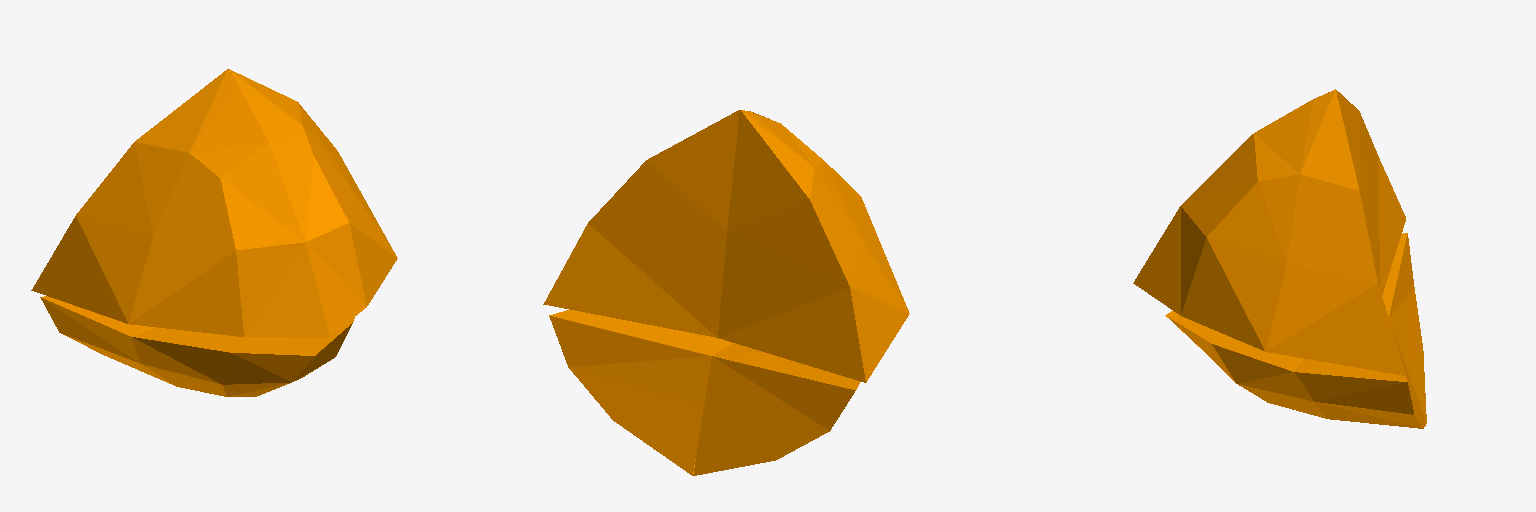
The model's file is beak.obj.
3 views of the same model, side by side, from view 1: azimuth 30°, elevation 25°; view 2: azimuth 150°, elevation 25°; view 3: azimuth 270°, elevation 25° (orthographic).
Parts seen in each view (by area): view 1: pasted__BeakR, pasted__BeakInfR; view 2: pasted__BeakR, pasted__BeakInfR; view 3: pasted__BeakR, pasted__BeakInfR.
Part boxes in pixels (left/top/right/bottom): pasted__BeakR: left=31, top=69, right=397, bottom=336; pasted__BeakInfR: left=40, top=296, right=354, bottom=396; pasted__BeakR: left=543, top=110, right=909, bottom=382; pasted__BeakInfR: left=549, top=310, right=859, bottom=475; pasted__BeakR: left=1133, top=89, right=1405, bottom=375; pasted__BeakInfR: left=1165, top=233, right=1426, bottom=428.
Bounding box in the file's own units: 1.79 × 1.77 × 1.41.